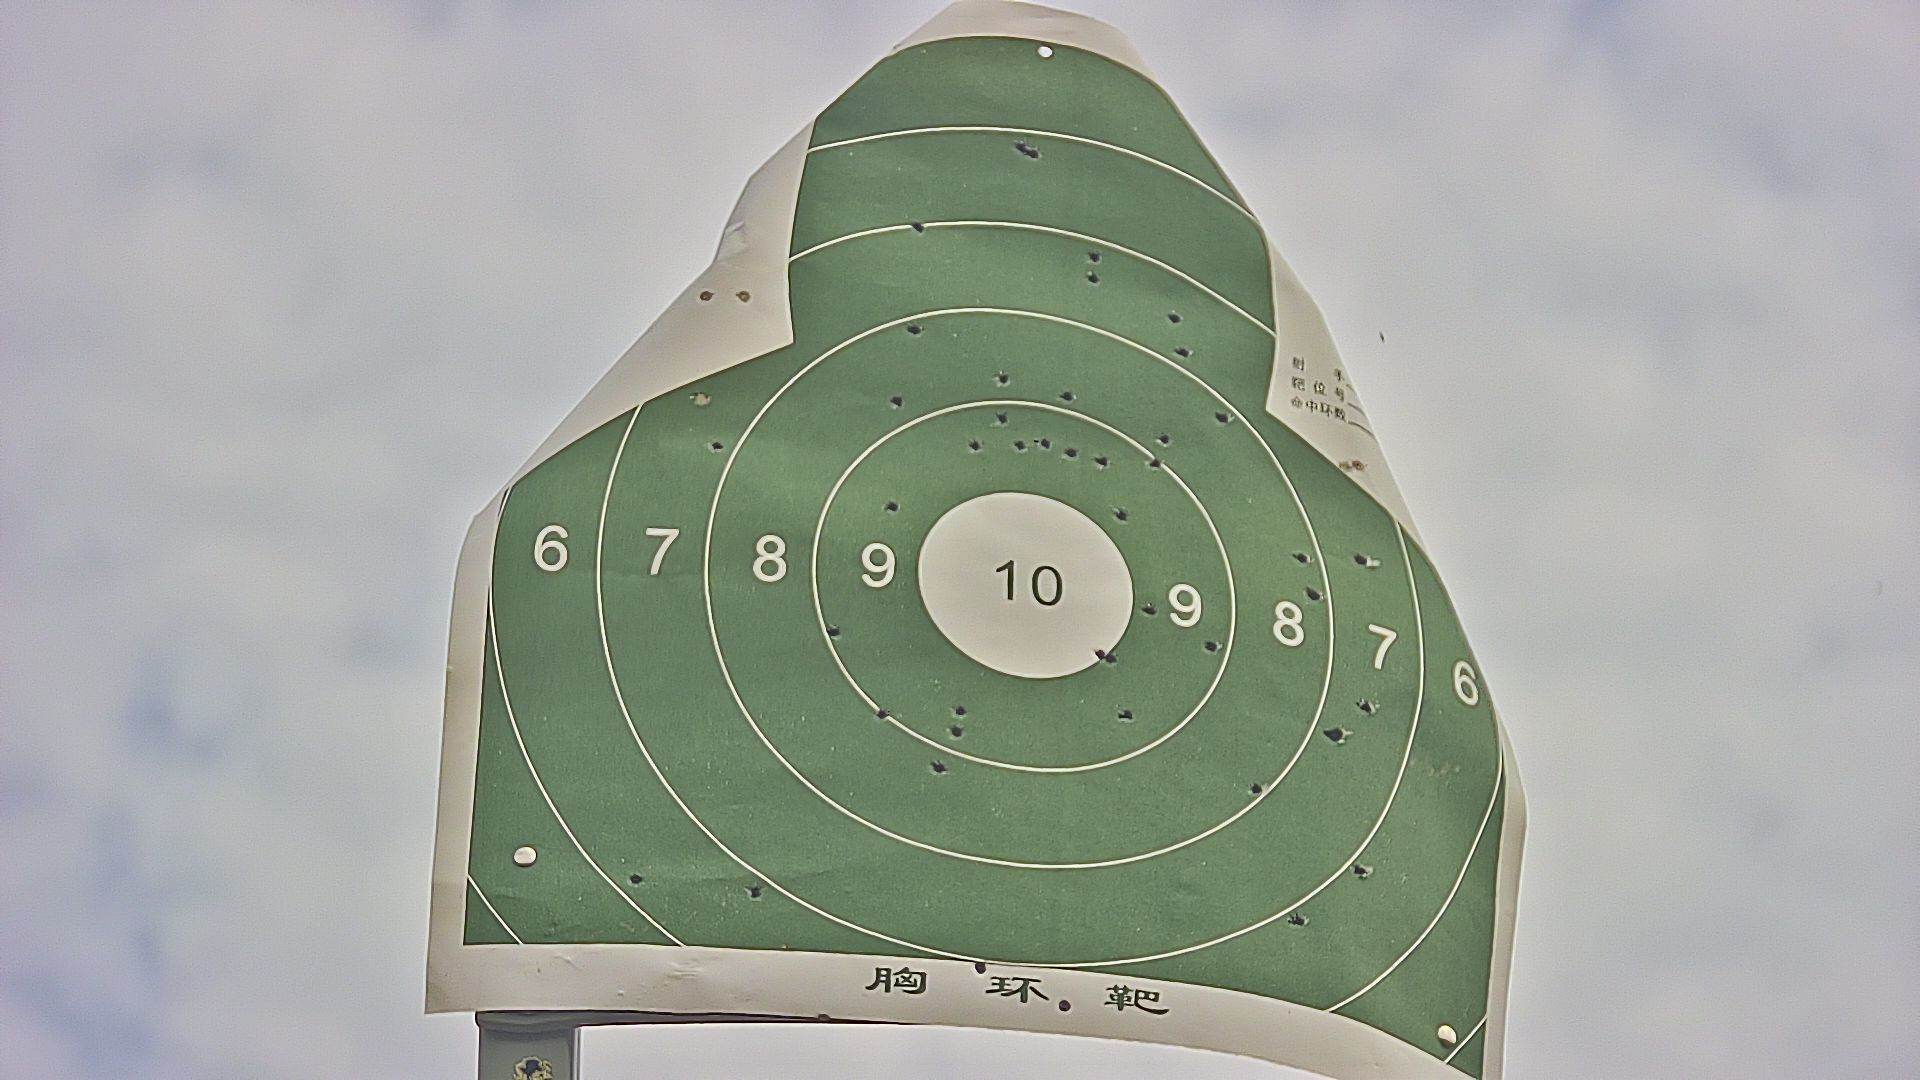hole: (1349, 862, 1371, 880), (1325, 727, 1348, 742), (1056, 996, 1073, 1014), (911, 218, 927, 237), (691, 389, 711, 405), (1245, 779, 1262, 796), (930, 757, 947, 774), (1215, 409, 1230, 427), (1305, 583, 1321, 601), (1060, 444, 1080, 459), (972, 956, 986, 976), (1034, 44, 1055, 57), (948, 723, 965, 738), (907, 320, 923, 336), (1114, 506, 1130, 522), (1295, 550, 1311, 566), (1204, 638, 1220, 654), (1288, 913, 1307, 926), (735, 289, 753, 302), (1170, 345, 1189, 357), (1166, 310, 1182, 324), (884, 498, 899, 513), (874, 704, 889, 720), (1338, 462, 1353, 477), (1087, 266, 1100, 284), (891, 393, 905, 410), (1360, 698, 1373, 715), (1117, 704, 1130, 721), (1142, 601, 1156, 616), (1059, 390, 1076, 402), (1104, 651, 1116, 669), (1349, 458, 1366, 469), (711, 438, 724, 452), (994, 372, 1007, 386), (1014, 439, 1027, 454), (1095, 454, 1108, 468), (1356, 551, 1369, 566), (630, 868, 642, 884), (1029, 142, 1039, 160), (827, 622, 840, 636), (1039, 438, 1052, 451), (971, 439, 982, 454), (746, 885, 761, 897), (1093, 647, 1105, 661), (698, 289, 711, 301), (1014, 137, 1025, 152), (1158, 430, 1168, 444), (1149, 456, 1160, 468), (1089, 247, 1100, 260), (955, 704, 967, 715), (998, 411, 1007, 425)
kernel: (1019, 580, 1023, 584)
target: (458, 36, 1511, 1080)
ten: (915, 487, 1135, 682)
